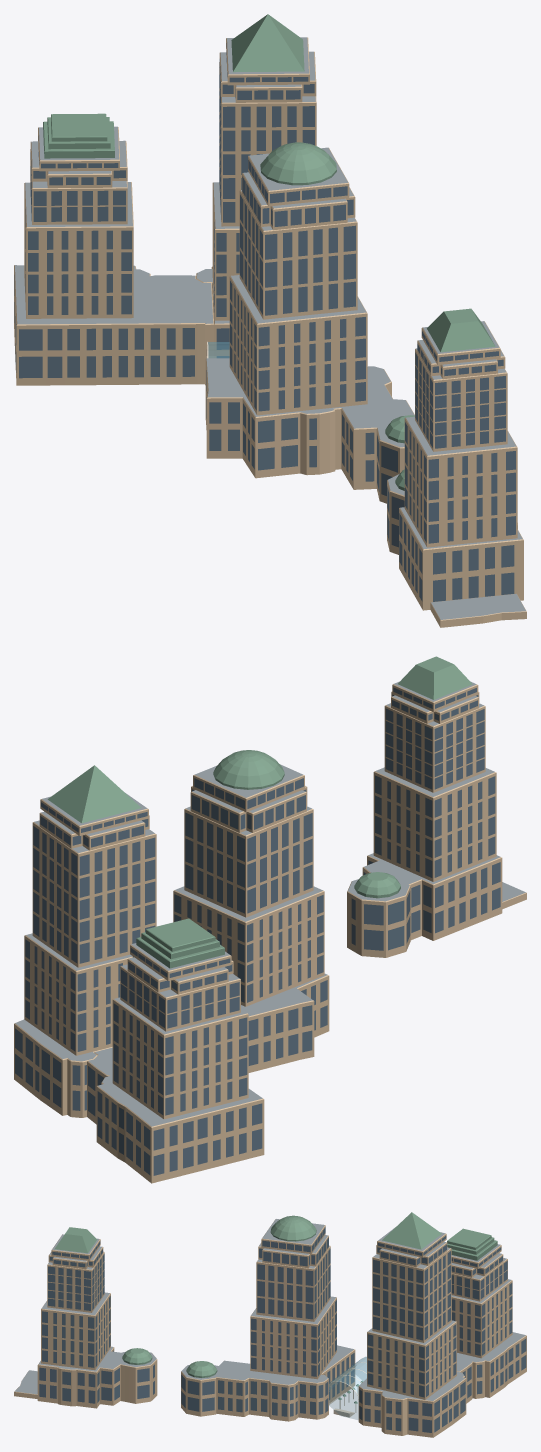
Rendered from nyc-brookfield-place.glb.
3 renders of one model, top to bottom at view 1: azimuth 30°, elevation 25°; view 2: azimuth 150°, elevation 25°; view 3: azimuth 270°, elevation 25°, orthographic. The views are drawn at different scales.
Visible parts, largest first — view 1: Brookfield Place; view 2: Brookfield Place; view 3: Brookfield Place.
Boxes of the visible parts, x1,y1,x2,y2 form: Brookfield Place: (14, 14, 526, 627); Brookfield Place: (14, 656, 526, 1183); Brookfield Place: (14, 1212, 526, 1437).
Size of the model in its own units: 197 by 225 by 510.
